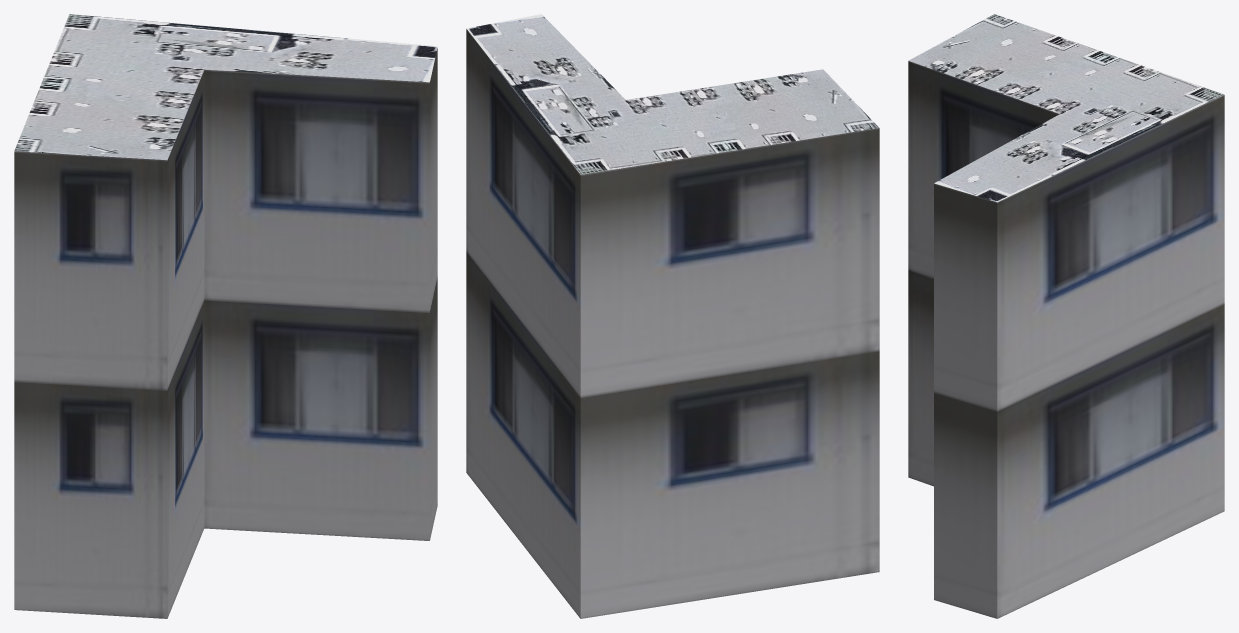
File: ResTex__2137.fbx
3 views of the same model, side by side, from view 1: azimuth 30°, elevation 25°; view 2: azimuth 150°, elevation 25°; view 3: azimuth 270°, elevation 25° (orthographic). The views are drawn at different scales.
Parts seen in each view (by area): view 1: CityEngineMaterial_9_m, CityEngineMaterial_2_m; view 2: CityEngineMaterial_9_m, CityEngineMaterial_2_m; view 3: CityEngineMaterial_9_m, CityEngineMaterial_2_m.
Boxes of the visible parts, x1,y1,x2,y2 form: CityEngineMaterial_9_m: (14, 48, 437, 618); CityEngineMaterial_2_m: (14, 14, 437, 160); CityEngineMaterial_9_m: (466, 29, 879, 618); CityEngineMaterial_2_m: (467, 14, 879, 174); CityEngineMaterial_9_m: (908, 61, 1224, 618); CityEngineMaterial_2_m: (908, 14, 1224, 202).
Size of the model in its own units: 5.82 by 6 by 4.13.
2 materials, 2 textured.
